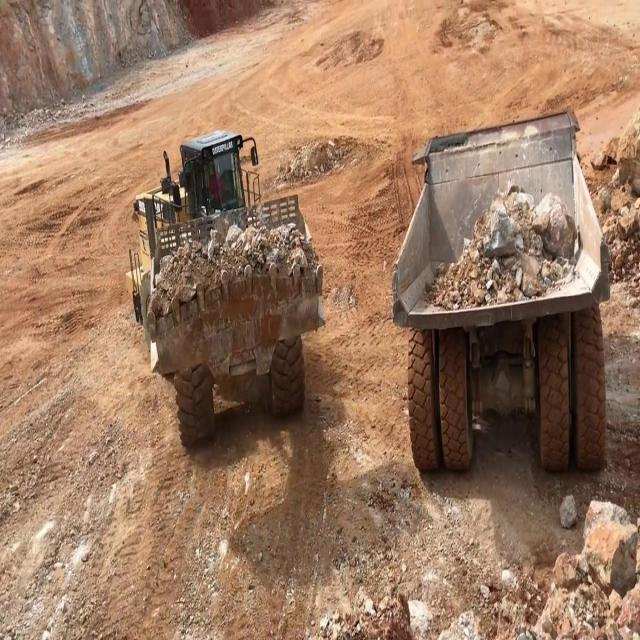Dump Truck: (389, 99, 609, 480)
Loader: (123, 124, 323, 454)
